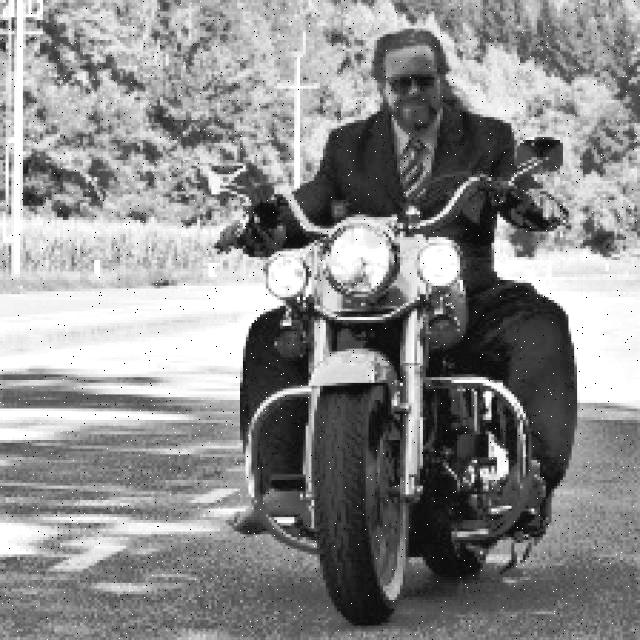Bike: (259, 178, 557, 611)
